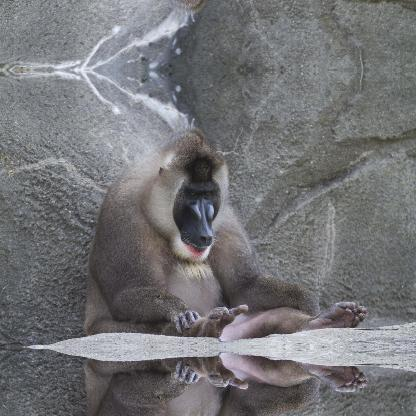Monkey: (83, 126, 366, 340), (83, 351, 367, 415)
